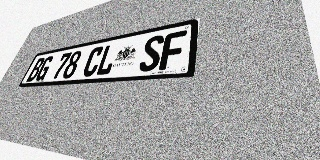7: (50, 52, 72, 80)
8: (61, 50, 84, 79)
B: (26, 57, 46, 82)
C: (81, 46, 105, 77)
F: (159, 30, 187, 70)
G: (34, 55, 55, 81)
L: (95, 43, 120, 76)
S: (138, 34, 165, 72)
